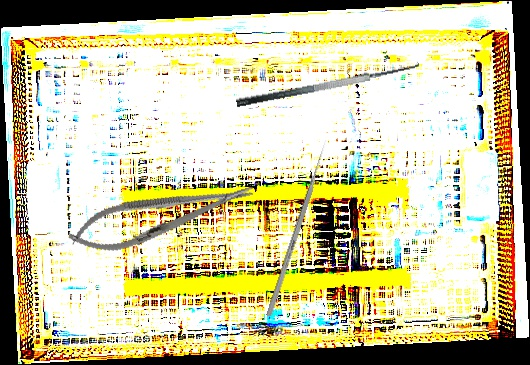Needle Holder: (63, 169, 260, 263)
Pusher: (266, 139, 329, 317)
Spatula Surgical: (233, 51, 421, 109)
